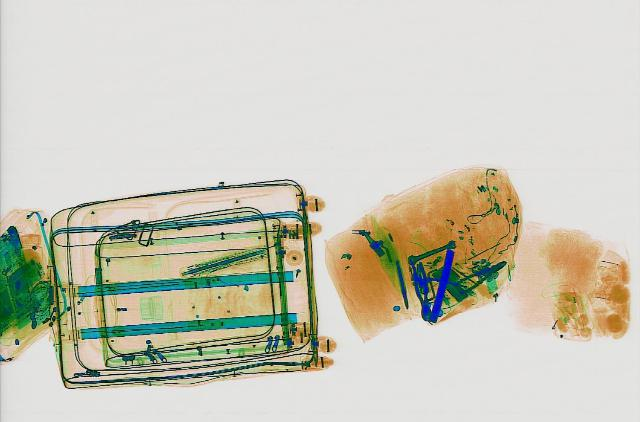Pliers: (446, 254, 512, 293), (408, 260, 438, 321)
Wrench: (404, 237, 460, 263)
